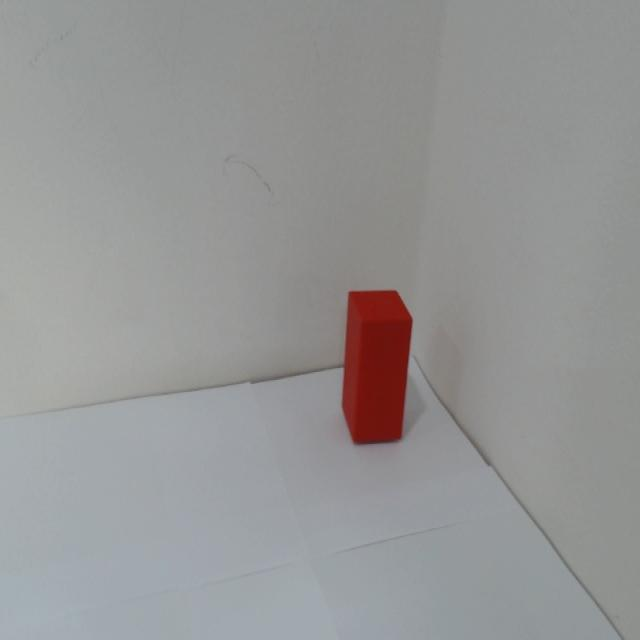cube: (338, 277, 416, 455)
